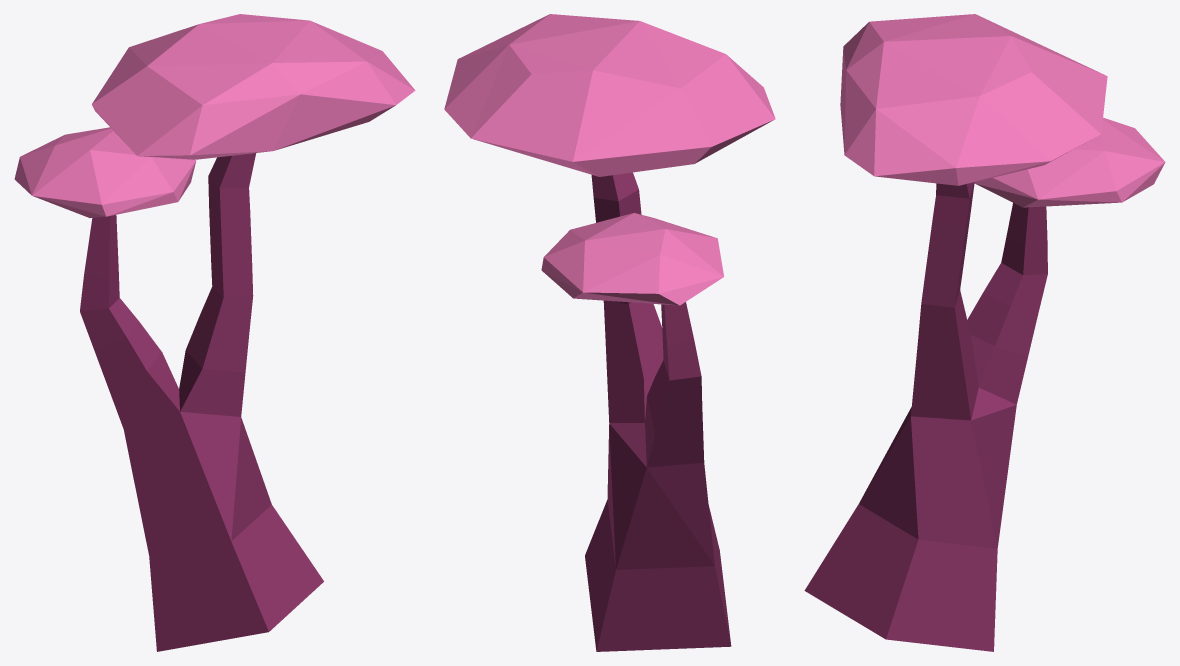
The model's file is LPSciFi_AlienPlantM1.fbx.
3 views of the same model, side by side, from view 1: azimuth 30°, elevation 25°; view 2: azimuth 150°, elevation 25°; view 3: azimuth 270°, elevation 25° (orthographic). The views are drawn at different scales.
Parts seen in each view (by area): view 1: AlienPlantM1; view 2: AlienPlantM1; view 3: AlienPlantM1.
Part boxes in pixels (x1=…): AlienPlantM1: x1=14, y1=14, x2=415, y2=651; AlienPlantM1: x1=444, y1=14, x2=775, y2=651; AlienPlantM1: x1=804, y1=14, x2=1165, y2=651.
Bounding box in the file's own units: 262 × 471 × 251.
